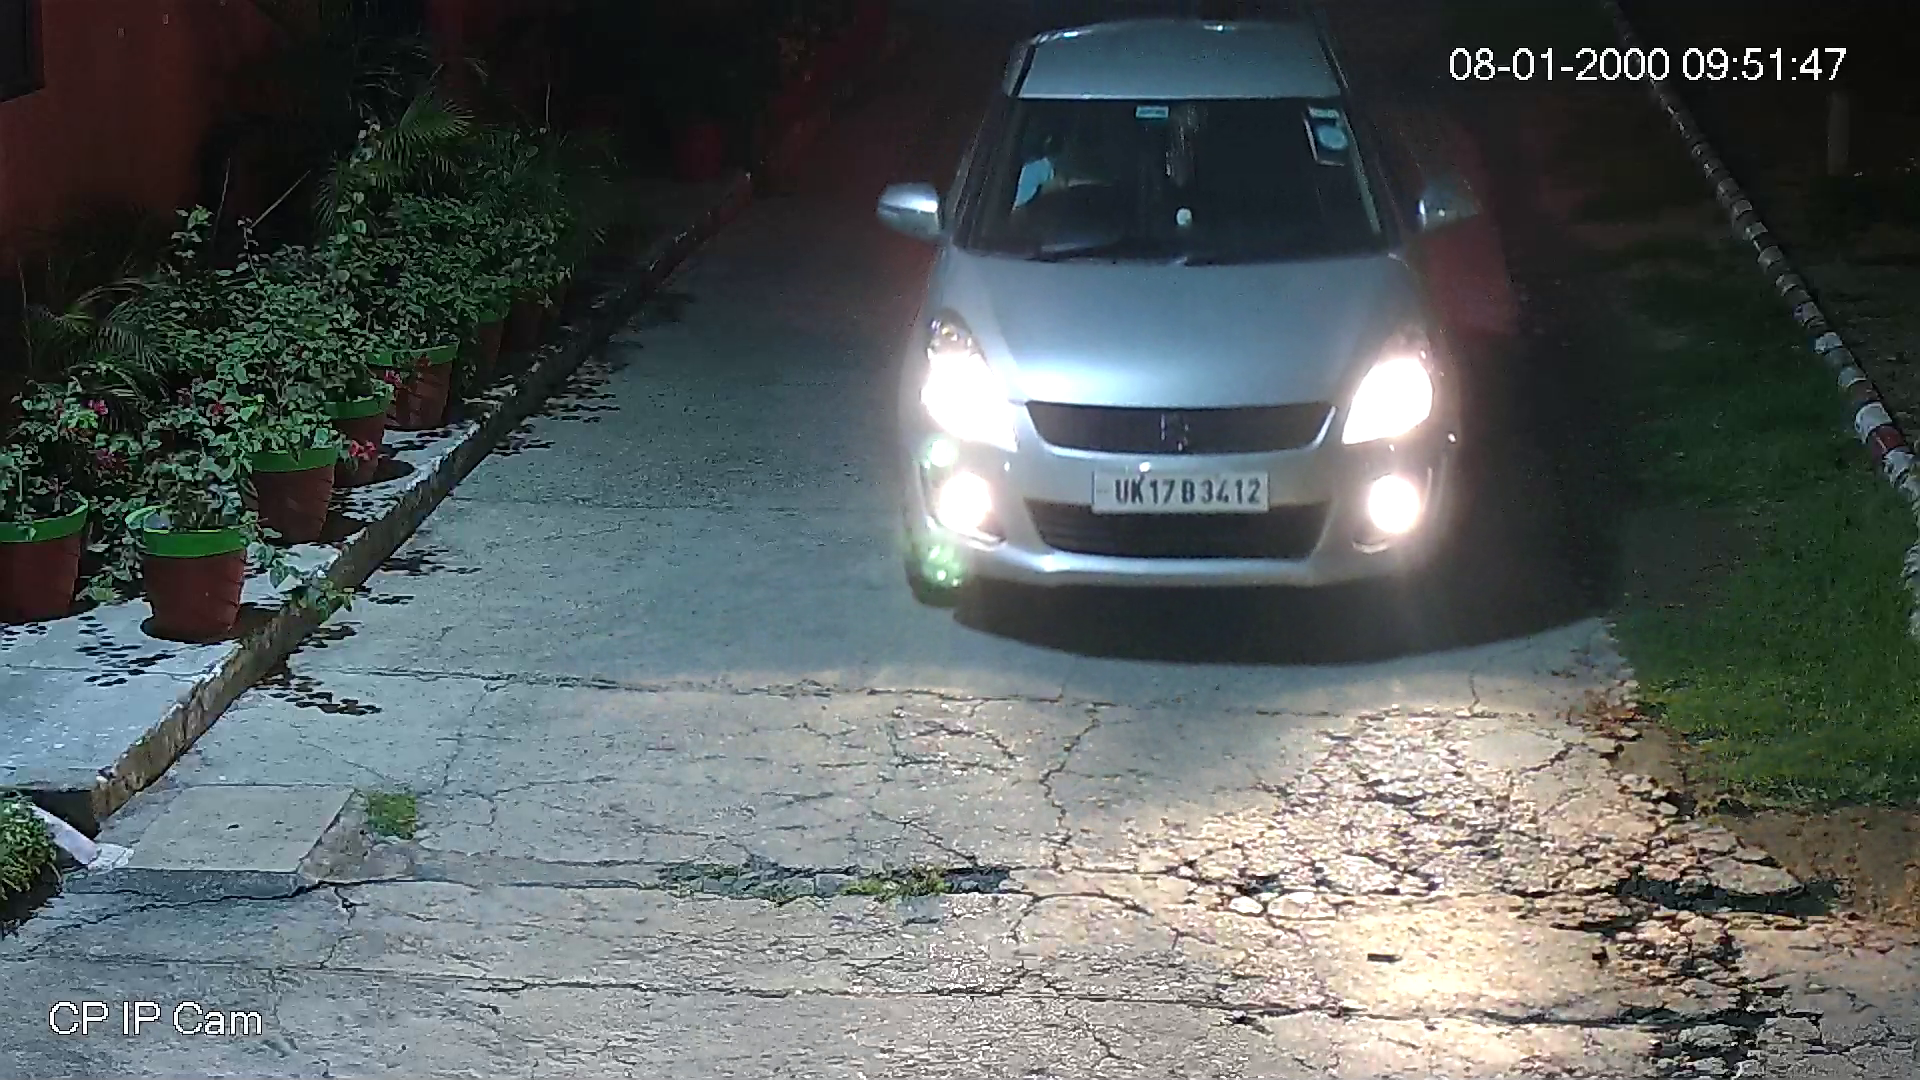plate: (1092, 468, 1273, 510)
